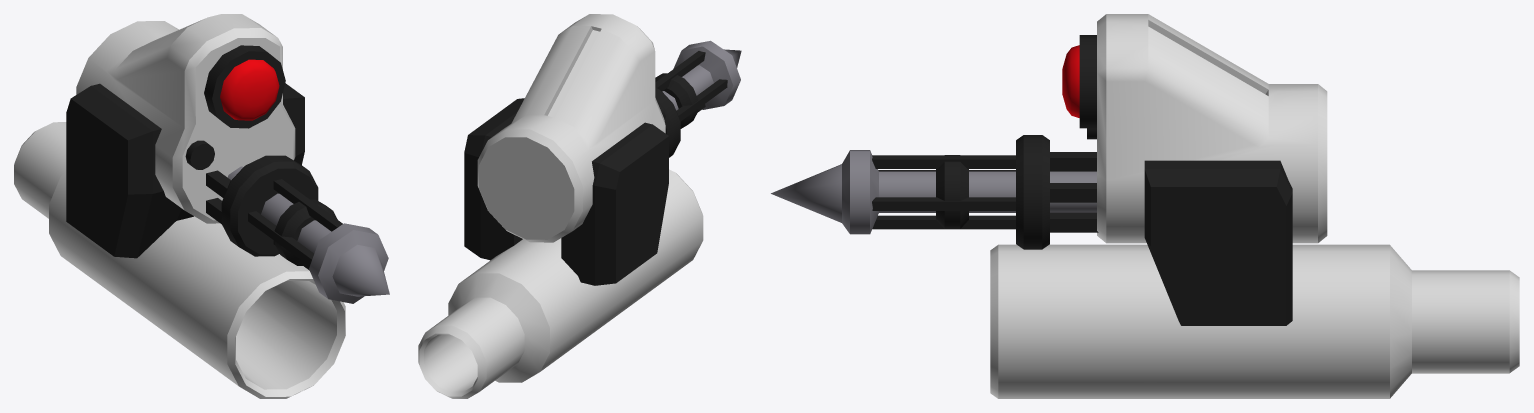
The model's file is DroneRam.fbx.
3 renders of one model, left to right at view 1: azimuth 30°, elevation 25°; view 2: azimuth 150°, elevation 25°; view 3: azimuth 270°, elevation 25°, orthographic. The views are drawn at different scales.
Visible parts, largest first — view 1: Cylinder.006, Cylinder.012, Cube.005, Cylinder.013, Cylinder.005, Cylinder.011, Cylinder.009, Cylinder.007, Cylinder.010, Cube, Cube.010, Cube.009 (+1 smaller); view 2: Cylinder.006, Cylinder.012, Cube.005, Cylinder.013, Cylinder.005, Cylinder.010, Cylinder.011, Cylinder.014, Cube, Cube.010; view 3: Cylinder.012, Cylinder.006, Cube.005, Cylinder.013, Cylinder.005, Cylinder.011, Cube, Cube.009, Cube.010, Cylinder.010, Cylinder.007, Cylinder.009.
Part boxes in pixels (box(x1,y1,x2,y2)): Cylinder.006: box(76, 14, 295, 223); Cylinder.012: box(49, 171, 345, 398); Cube.005: box(66, 83, 304, 258); Cylinder.013: box(14, 122, 336, 389); Cylinder.005: box(227, 166, 389, 303); Cylinder.011: box(221, 155, 318, 256); Cylinder.009: box(220, 59, 279, 120); Cylinder.007: box(204, 45, 285, 128); Cylinder.010: box(274, 199, 337, 265); Cube: box(273, 179, 342, 270); Cube.010: box(248, 211, 314, 266); Cube.009: box(206, 170, 230, 223); Cylinder.006: box(477, 14, 665, 242); Cylinder.012: box(448, 169, 703, 382); Cube.005: box(464, 98, 668, 285); Cylinder.013: box(418, 297, 524, 398); Cylinder.005: box(662, 40, 741, 110); Cylinder.010: box(655, 73, 698, 128); Cylinder.011: box(655, 88, 680, 157); Cylinder.014: box(547, 30, 599, 117); Cube: box(655, 51, 705, 111); Cube.010: box(676, 79, 727, 121); Cylinder.012: box(990, 244, 1411, 398); Cylinder.006: box(1097, 14, 1327, 243); Cube.005: box(1144, 160, 1292, 325); Cylinder.013: box(1412, 270, 1519, 373); Cylinder.005: box(771, 150, 1096, 234); Cylinder.011: box(1016, 135, 1049, 249); Cube: box(872, 155, 1015, 229); Cube.009: box(1050, 152, 1098, 232); Cube.010: box(872, 170, 1015, 210); Cylinder.010: box(936, 155, 968, 229); Cylinder.007: box(1079, 35, 1096, 128); Cylinder.009: box(1062, 45, 1079, 117).
Size of the model in its own units: 19.99 by 36.2 by 66.77.
